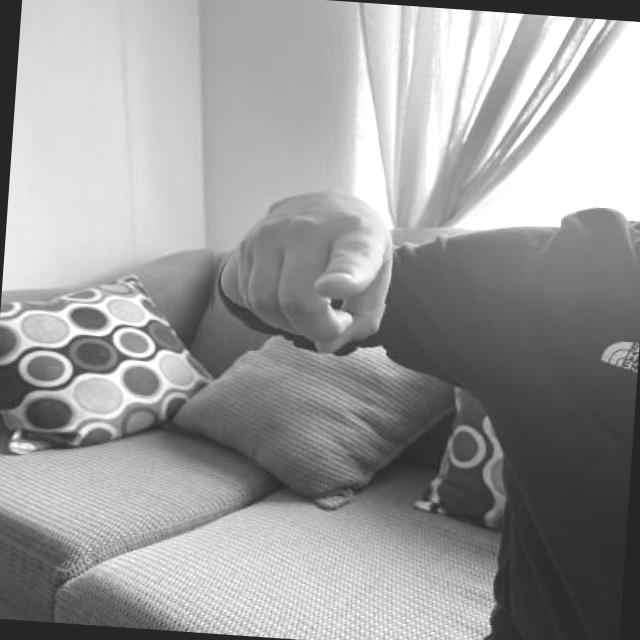X: (205, 178, 397, 360)
